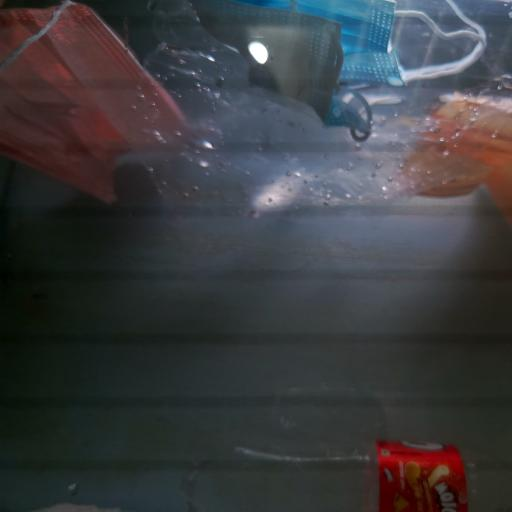mask: (0, 0, 208, 209), (212, 2, 486, 112), (394, 92, 512, 206)
plastic_bag: (118, 0, 512, 211)
plastic_bottle: (189, 444, 512, 512)
